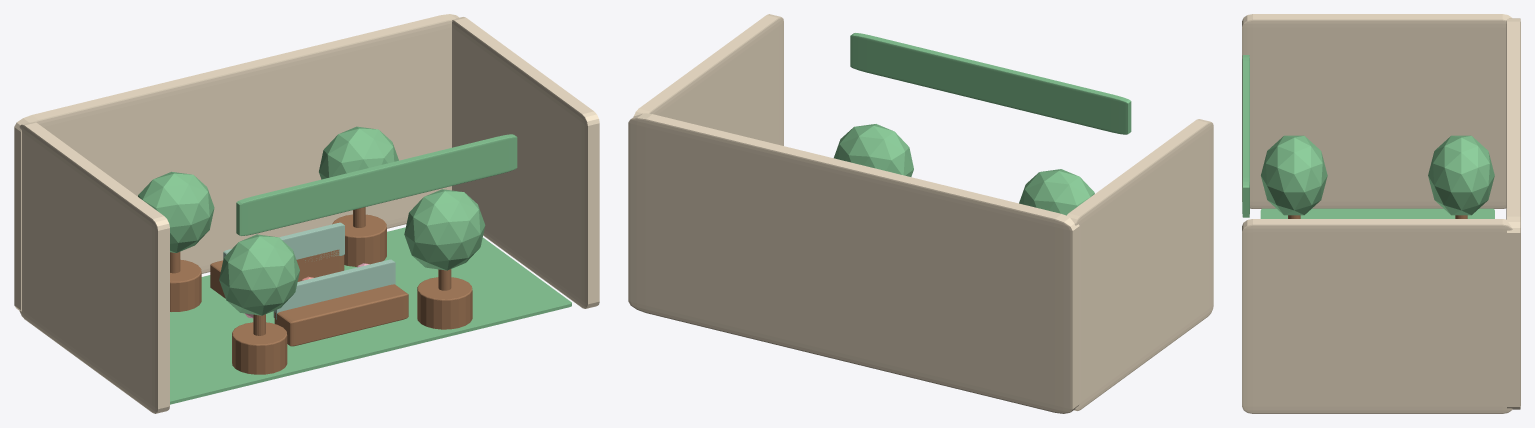
File: rooftop_garden.glb
3 renders of one model, left to right at view 1: azimuth 30°, elevation 25°; view 2: azimuth 150°, elevation 25°; view 3: azimuth 270°, elevation 25°, orthographic. The views are drawn at different scales.
Visible parts, largest first — view 1: rooftop_garden_back, rooftop_garden_left, rooftop_garden_right, rooftop_garden_floor, rooftop_garden_sign, Garden_Tree_Canopy_1, Garden_Tree_Canopy_2, Garden_Bench_1, Garden_Tree_Canopy_3, Garden_Bench_Back_1, Garden_Tree_Canopy_4, Garden_Planter_2 (+5 smaller); view 2: rooftop_garden_back, rooftop_garden_left, rooftop_garden_sign, rooftop_garden_right, Garden_Tree_Canopy_2, Garden_Tree_Canopy_1; view 3: rooftop_garden_right, rooftop_garden_left, rooftop_garden_back, Garden_Tree_Canopy_1, Garden_Tree_Canopy_3, rooftop_garden_floor, rooftop_garden_sign.
Part boxes in pixels (left/top/right/bottom): rooftop_garden_back: left=14, top=14, right=458, bottom=311; rooftop_garden_left: left=19, top=122, right=169, bottom=413; rooftop_garden_right: left=452, top=17, right=599, bottom=308; rooftop_garden_floor: left=170, top=227, right=571, bottom=404; rooftop_garden_sign: left=236, top=134, right=517, bottom=235; Garden_Tree_Canopy_1: left=219, top=234, right=299, bottom=315; Garden_Tree_Canopy_2: left=404, top=189, right=485, bottom=270; Garden_Bench_1: left=274, top=284, right=408, bottom=346; Garden_Tree_Canopy_3: left=138, top=171, right=214, bottom=252; Garden_Bench_Back_1: left=273, top=259, right=395, bottom=319; Garden_Tree_Canopy_4: left=319, top=126, right=398, bottom=179; Garden_Planter_2: left=417, top=277, right=472, bottom=329; rooftop_garden_back: left=628, top=113, right=1079, bottom=413; rooftop_garden_left: left=1067, top=119, right=1213, bottom=410; rooftop_garden_sign: left=850, top=33, right=1131, bottom=134; rooftop_garden_right: left=633, top=14, right=783, bottom=145; Garden_Tree_Canopy_2: left=834, top=124, right=913, bottom=176; Garden_Tree_Canopy_1: left=1019, top=169, right=1094, bottom=215; rooftop_garden_right: left=1242, top=219, right=1512, bottom=413; rooftop_garden_left: left=1242, top=14, right=1511, bottom=208; rooftop_garden_back: left=1506, top=18, right=1520, bottom=409; Garden_Tree_Canopy_1: left=1261, top=135, right=1327, bottom=215; Garden_Tree_Canopy_3: left=1428, top=135, right=1494, bottom=215; rooftop_garden_floor: left=1260, top=208, right=1494, bottom=218; rooftop_garden_sign: left=1242, top=55, right=1249, bottom=217.
Size of the model in its own units: 12 by 5 by 6.67.
